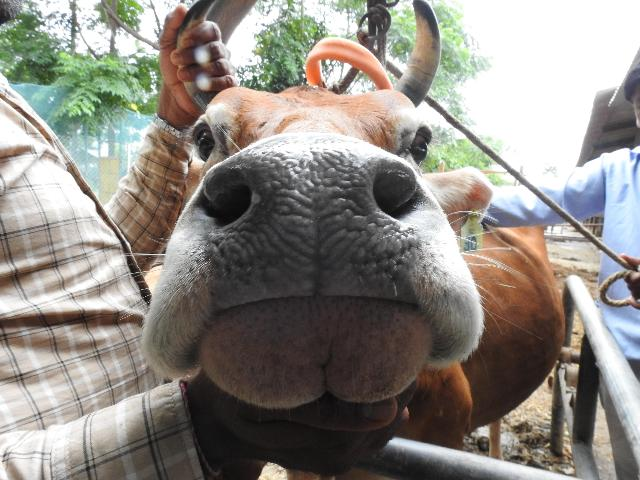Muzzle: (246, 146, 392, 288)
